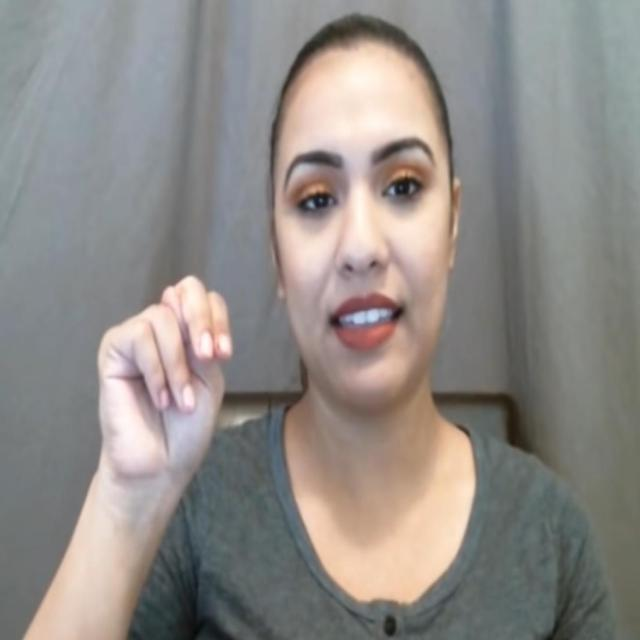N: (90, 270, 236, 482)
